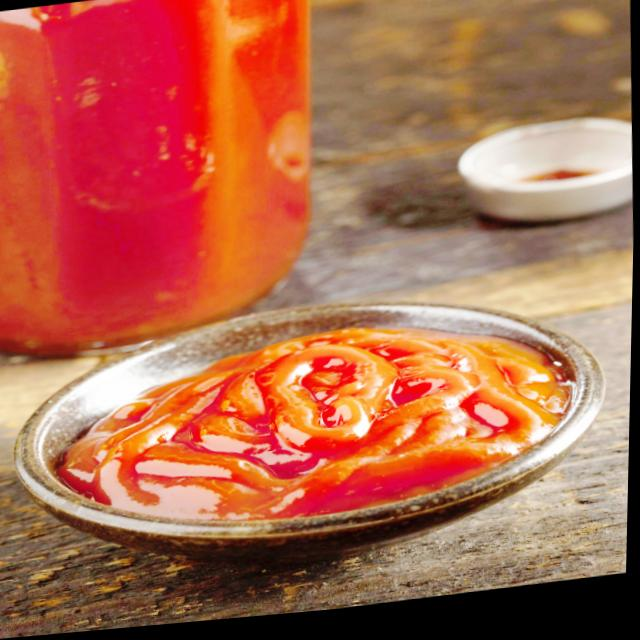ketchup: (42, 286, 593, 553)
